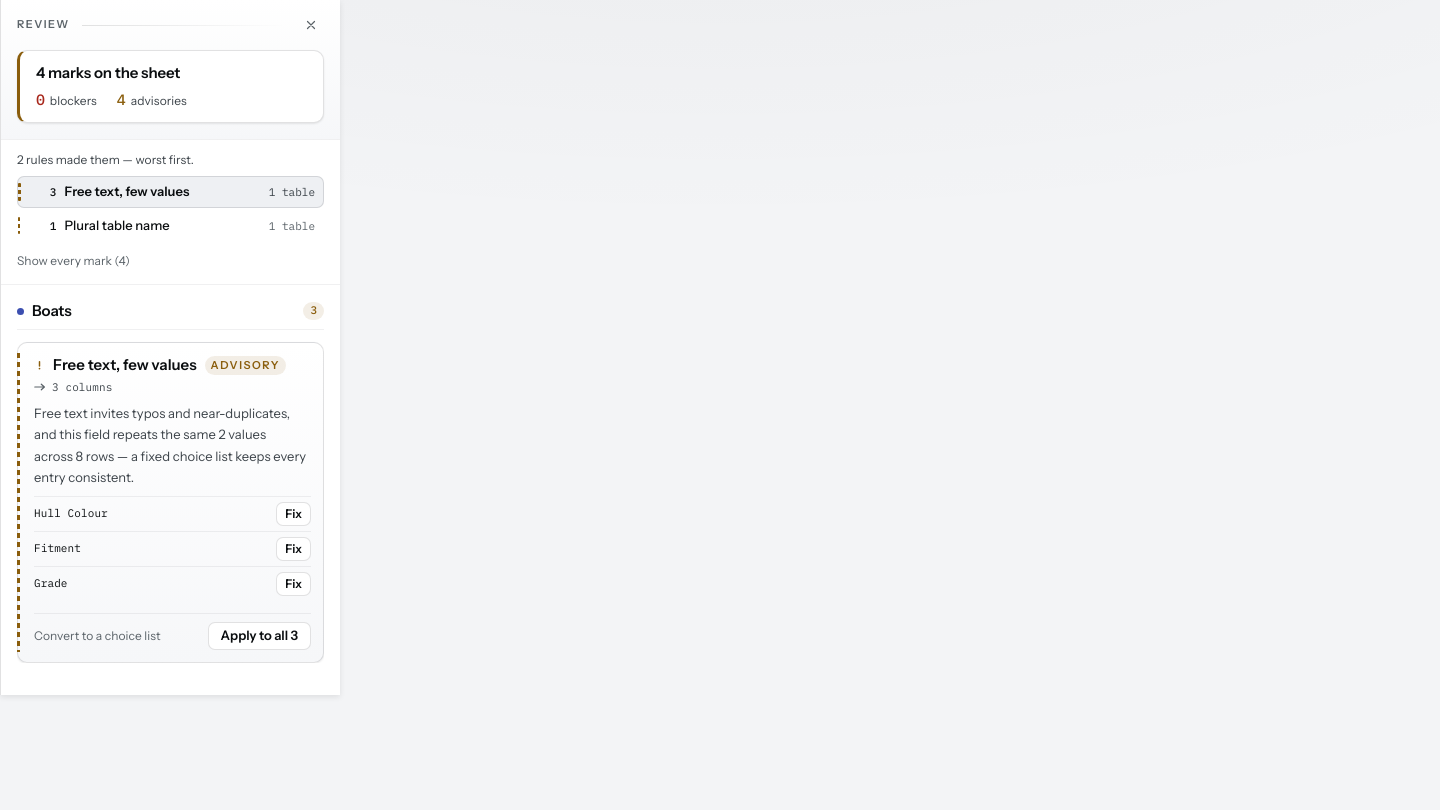
Test: the confirm gate › leaves the sheet untouched when the question is declined
Click the button "Apply to all 3": (259, 636) [208,622,311,650]
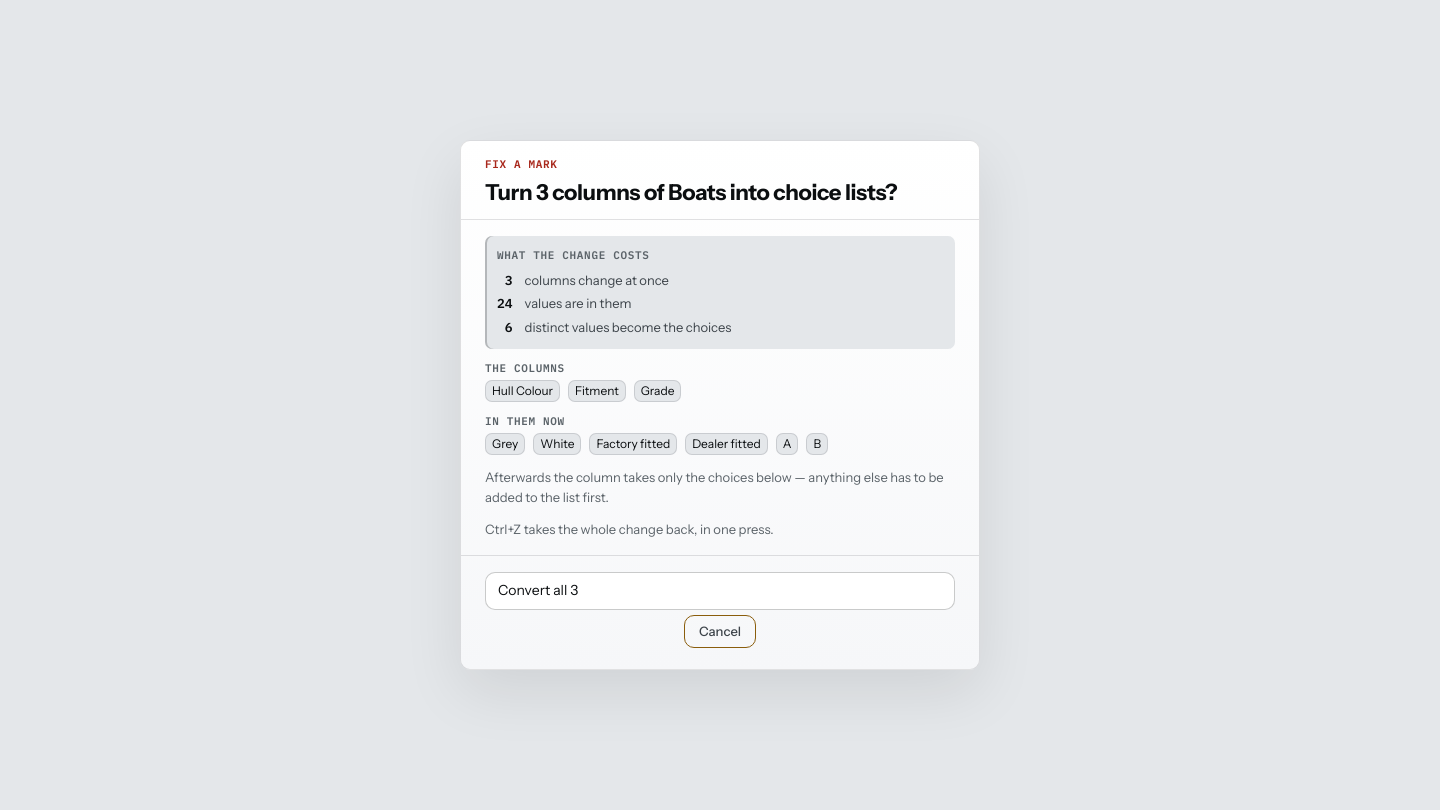
Click the button "Cancel": (720, 631) [687,618,753,644]
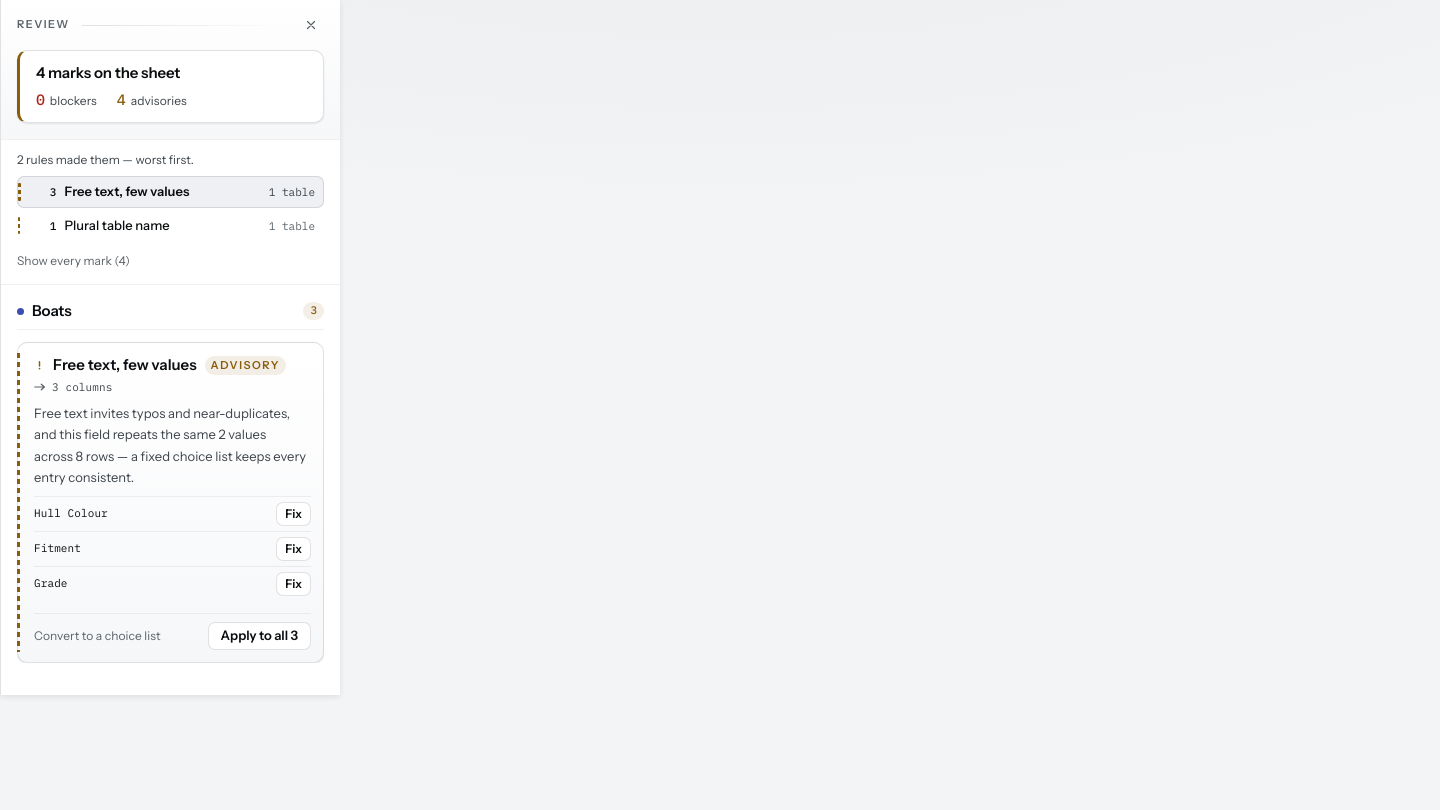
expect the dialog is gone: met
